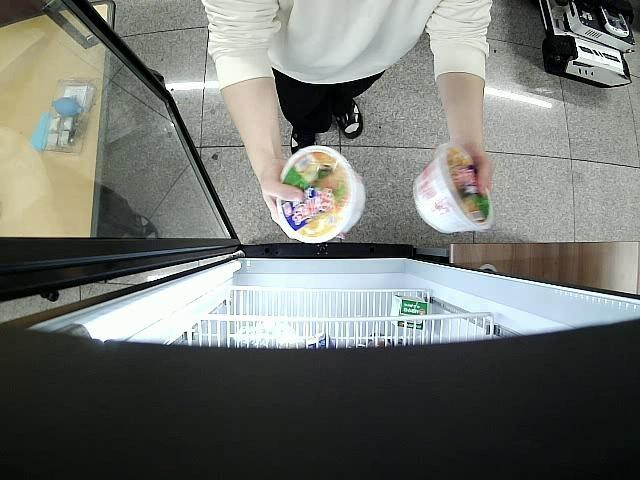09_yukGaeJang: (278, 146, 368, 242), (414, 145, 494, 234)
